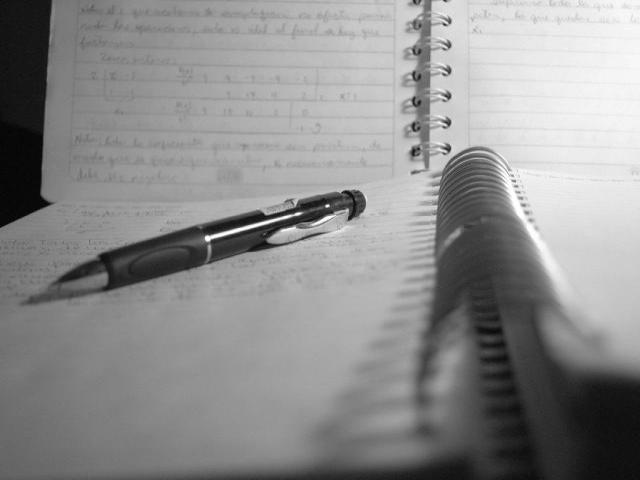PEN: (20, 180, 368, 313)
